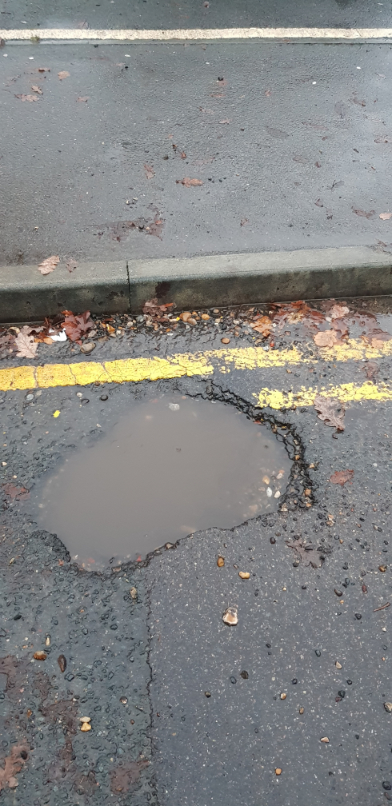pothole: (10, 370, 320, 585)
